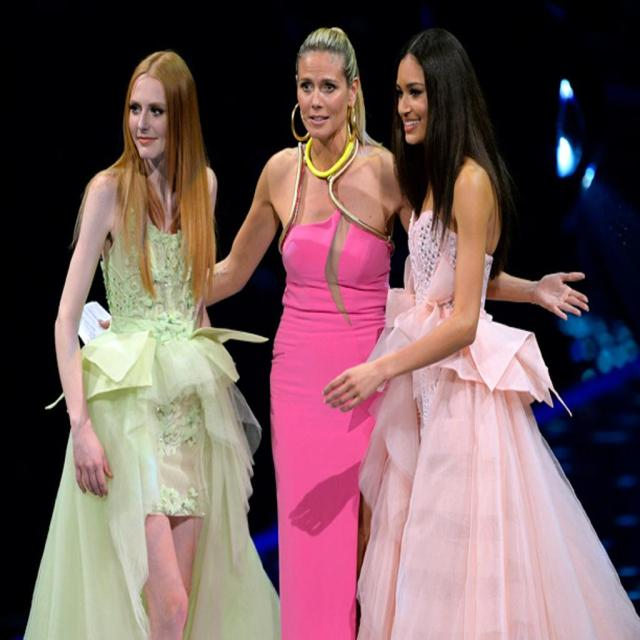Face: (296, 46, 352, 142), (122, 75, 183, 160), (390, 59, 437, 147)
